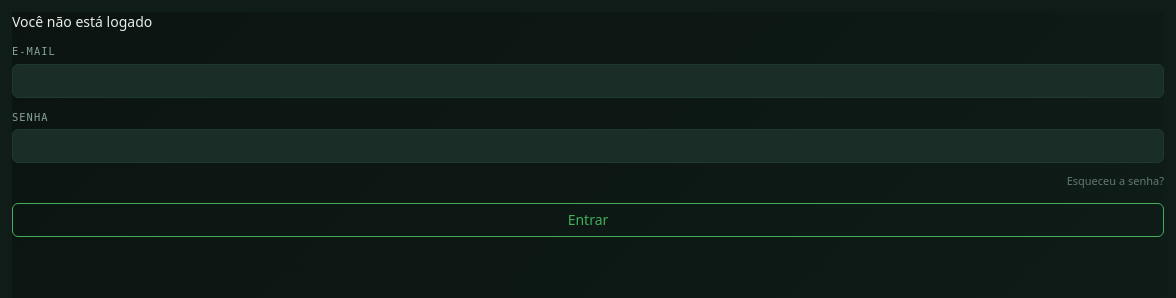
signed out › reports wrong credentials without signing in
The image size is (1176, 298).
In the field labelled "E-mail": (588, 81) [12,64,1164,98], type "maria@ufsj.edu.br"
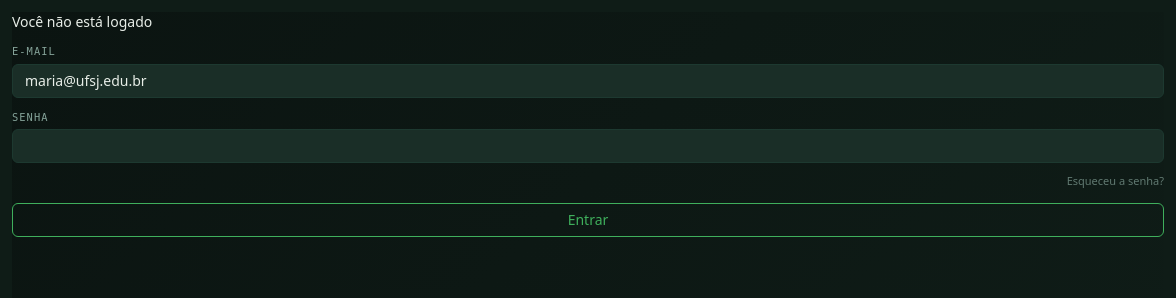
In the password field labelled "Senha": (588, 146) [12,129,1164,163], type "errada"
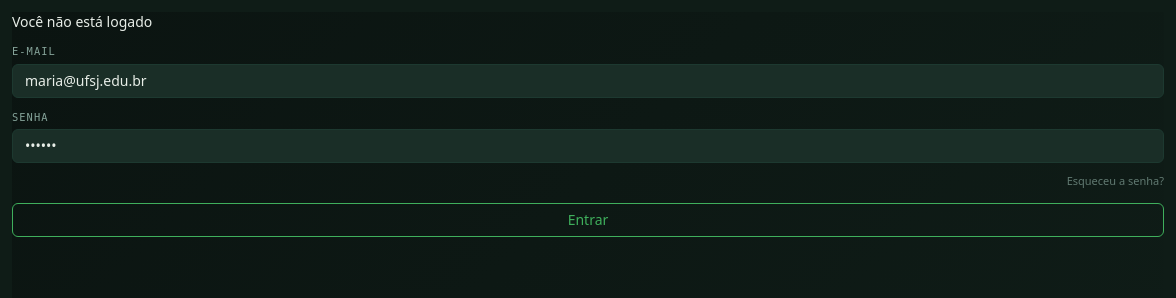
Click the button "Entrar": (588, 220) [12,203,1164,237]
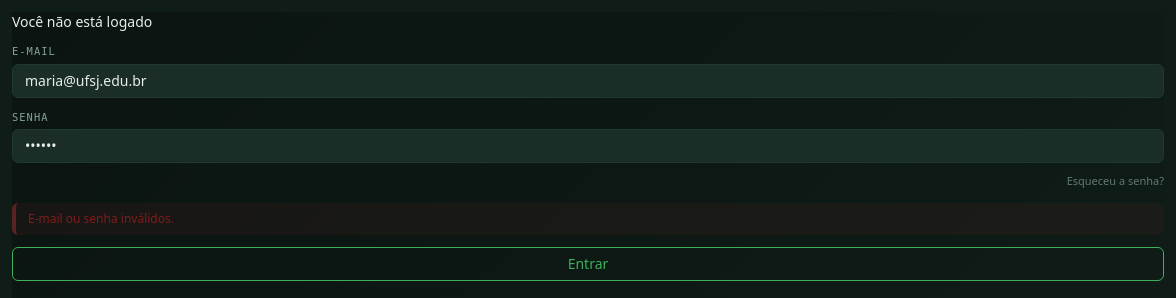
expect the message reads "E-mail ou senha inválidos.": met, box [28,210,174,227]
